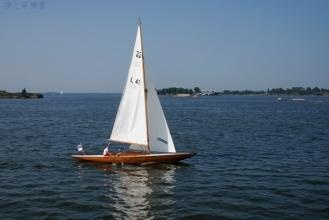fanchuan: (70, 10, 196, 166)
